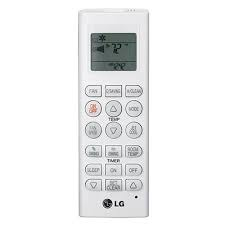remote control: (75, 7, 152, 218)
